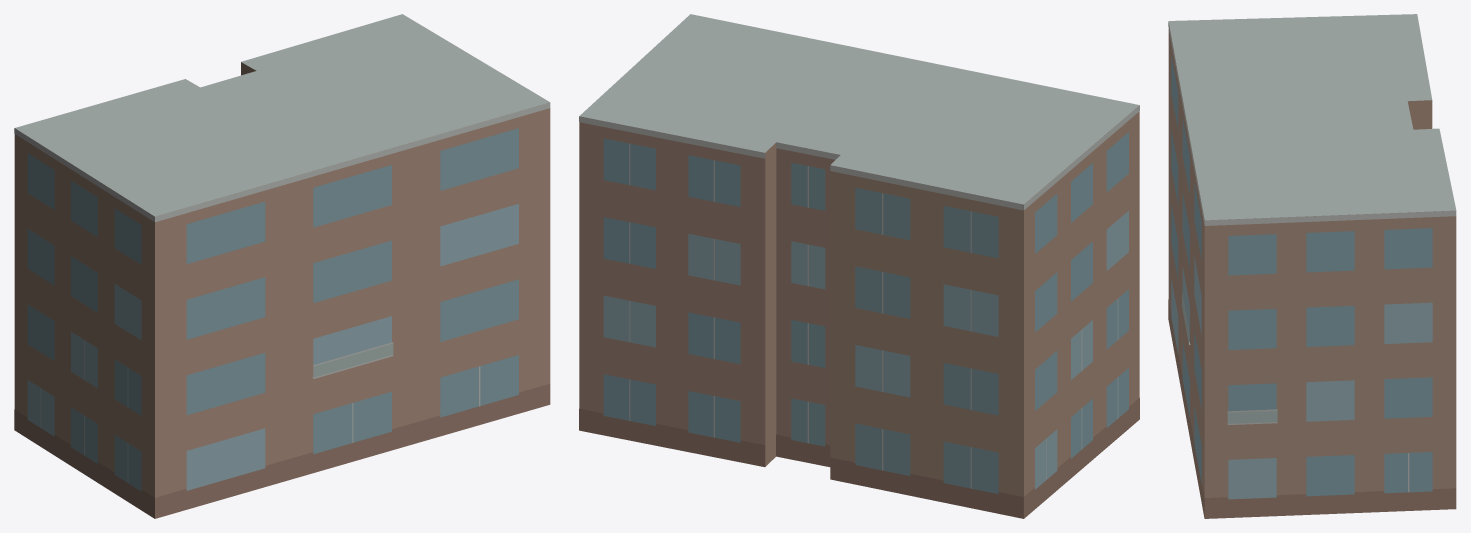
The model's file is survey-upis-32823483.glb.
3 views of the same model, side by side, from view 1: azimuth 30°, elevation 25°; view 2: azimuth 150°, elevation 25°; view 3: azimuth 270°, elevation 25° (orthographic). The views are drawn at different scales.
Parts seen in each view (by area): view 1: survey-upis-32823483.tmp; view 2: survey-upis-32823483.tmp; view 3: survey-upis-32823483.tmp.
Boxes of the visible parts, x1=… form: survey-upis-32823483.tmp: x1=14, y1=14, x2=550, y2=518; survey-upis-32823483.tmp: x1=579, y1=14, x2=1139, y2=518; survey-upis-32823483.tmp: x1=1168, y1=14, x2=1456, y2=518.
Bounding box in the file's own units: 19.21 × 12.95 × 11.33.
